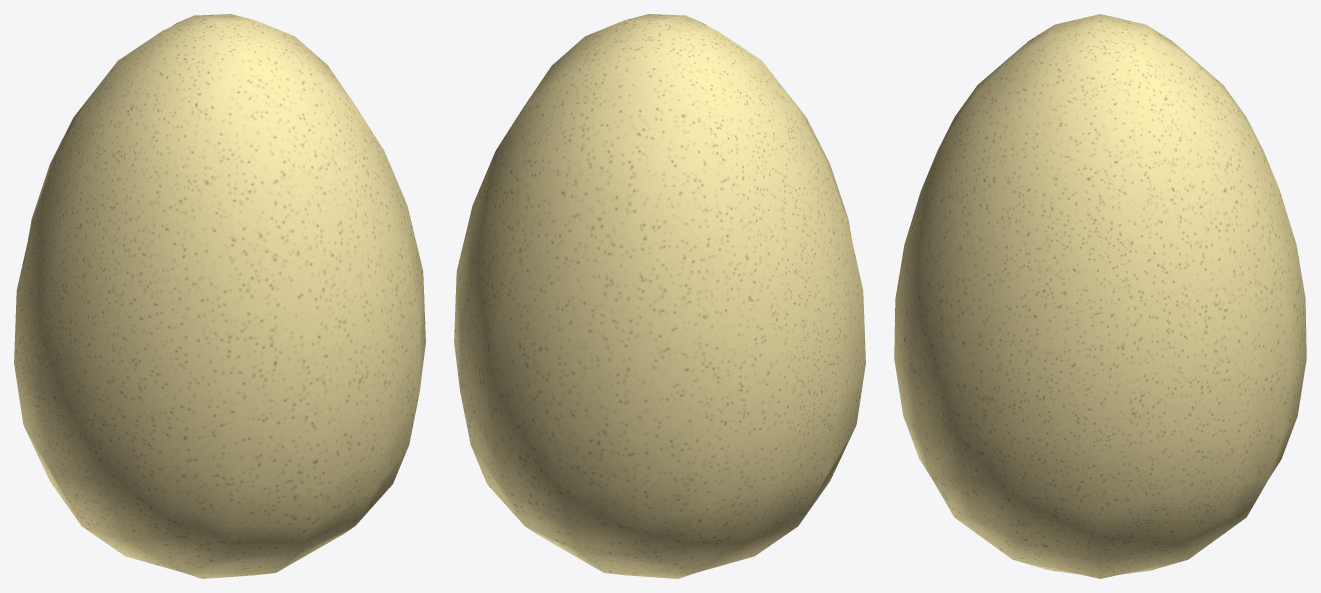
File: eggwhite.glb
3 views of the same model, side by side, from view 1: azimuth 30°, elevation 25°; view 2: azimuth 150°, elevation 25°; view 3: azimuth 270°, elevation 25° (orthographic).
Visible parts, largest first — view 1: eggwhite; view 2: eggwhite; view 3: eggwhite.
Boxes of the visible parts, x1,y1,x2,y2 form: eggwhite: (14,14,425,578); eggwhite: (454,14,865,578); eggwhite: (894,14,1306,578).
Bounding box in the file's own units: 0.4057 × 0.5811 × 0.4042.
1 material, 1 textured.
